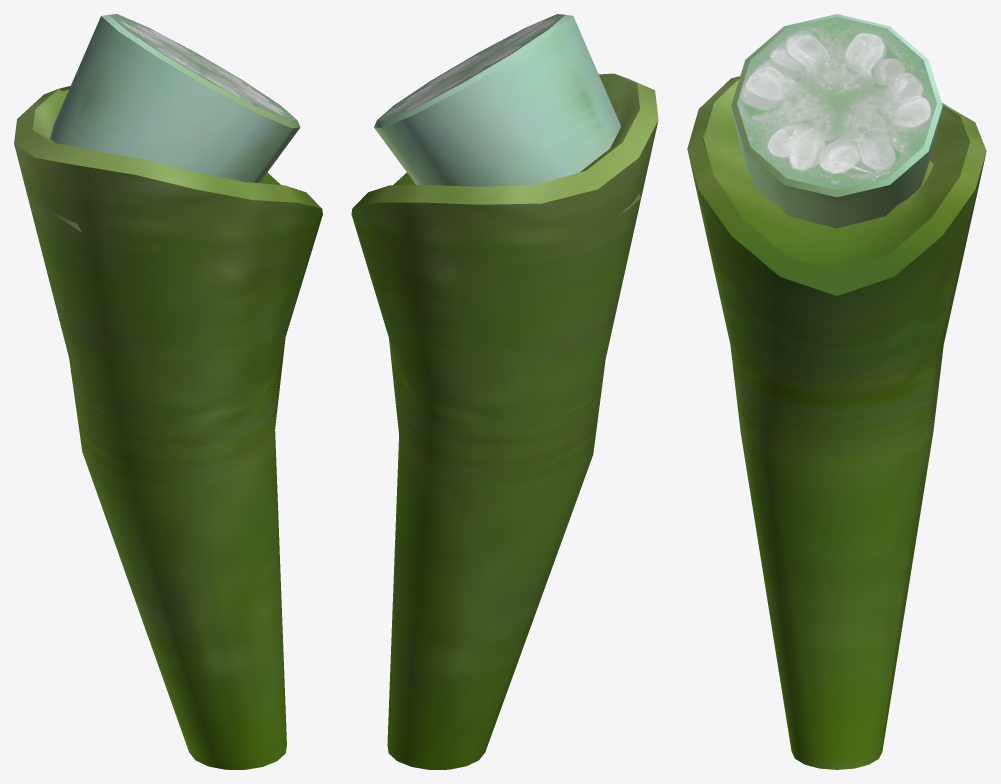
The model's file is Dayflower_CrossSectionHalf.glb.
The picture shows the model from 3 angles, left to right: view 1: azimuth 30°, elevation 25°; view 2: azimuth 150°, elevation 25°; view 3: azimuth 270°, elevation 25°; orthographic projection. The views are drawn at different scales.
Visible parts, largest first — view 1: DayflowerStem, DayflowerOvary.001; view 2: DayflowerStem, DayflowerOvary.001; view 3: DayflowerStem, DayflowerOvary.001.
Part boxes in pixels (x1,y1,x2,y2): DayflowerStem: (14, 86, 322, 769); DayflowerOvary.001: (42, 14, 300, 231); DayflowerStem: (351, 73, 658, 769); DayflowerOvary.001: (374, 14, 640, 215); DayflowerStem: (687, 76, 986, 769); DayflowerOvary.001: (731, 14, 942, 228).
Size of the model in its own units: 0.2326 by 0.6265 by 0.2478.
Materials: 3 (3 with a texture image).
